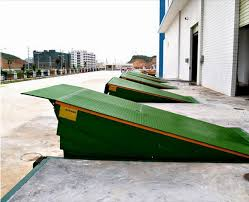Yard Ramp: (21, 84, 249, 157), (104, 76, 196, 100)
